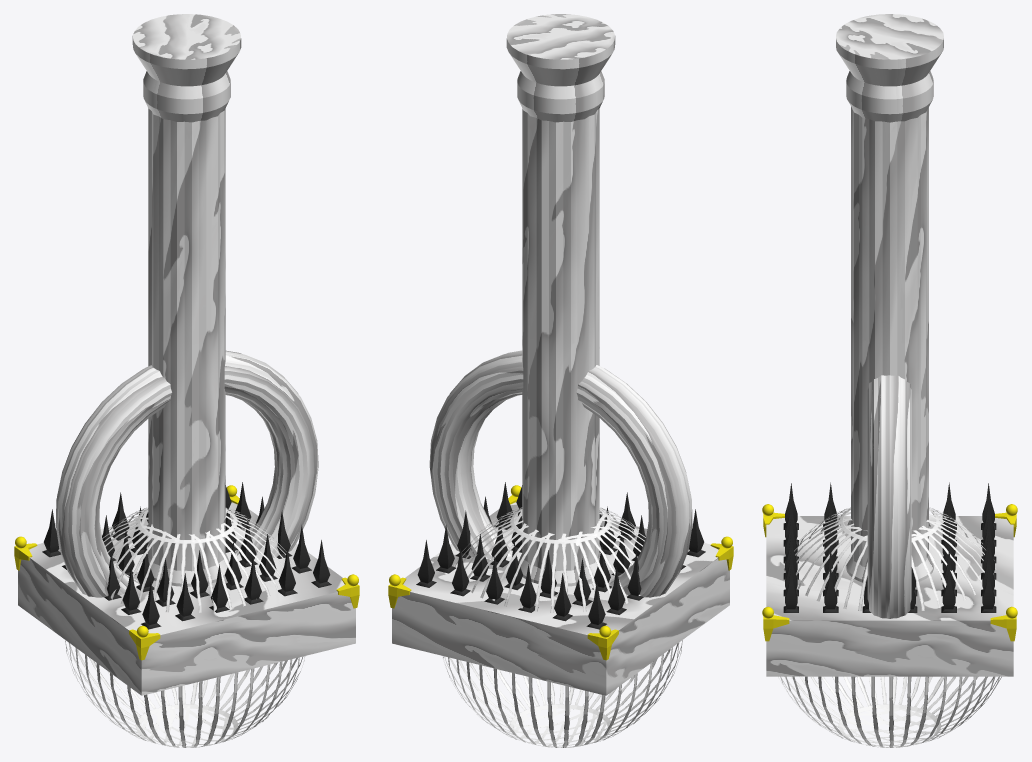
File: blocks.fbx
3 views of the same model, side by side, from view 1: azimuth 30°, elevation 25°; view 2: azimuth 150°, elevation 25°; view 3: azimuth 270°, elevation 25° (orthographic).
Parts seen in each view (by area): view 1: Column, Cube, CircleColumn, Sphere, Thorns, Corners; view 2: Column, Cube, CircleColumn, Sphere, Thorns, Corners; view 3: Column, Cube, Sphere, CircleColumn, Thorns, Corners.
Part boxes in pixels (x1,y1,x2,y2): Column: [132, 14, 241, 586]; Cube: [18, 502, 355, 695]; CircleColumn: [55, 350, 318, 597]; Sphere: [65, 507, 305, 747]; Thorns: [42, 482, 331, 629]; Corners: [14, 485, 359, 660]; Column: [506, 14, 615, 586]; Cube: [392, 502, 729, 695]; CircleColumn: [429, 350, 692, 597]; Sphere: [443, 507, 682, 747]; Thorns: [416, 482, 705, 629]; Corners: [388, 485, 733, 660]; Column: [836, 14, 943, 582]; Cube: [766, 516, 1013, 676]; Sphere: [778, 507, 1001, 747]; CircleColumn: [867, 375, 911, 618]; Thorns: [783, 482, 996, 612]; Corners: [762, 504, 1017, 641].
Size of the model in its own units: 240 by 624 by 207.
